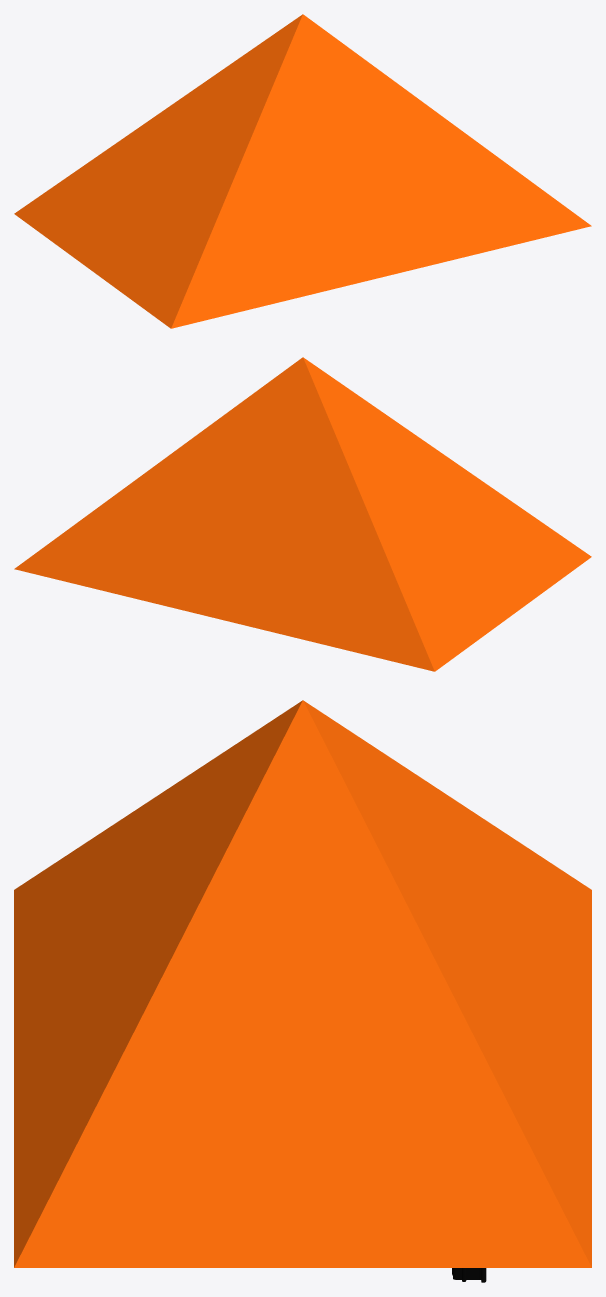
File: perf.fbx
3 views of the same model, one above another, from view 1: azimuth 30°, elevation 25°; view 2: azimuth 150°, elevation 25°; view 3: azimuth 270°, elevation 25° (orthographic). The views are drawn at different scales.
Visible parts, largest first — view 1: root; view 2: root; view 3: root.
Boxes of the visible parts, left/top/right/bottom form: root: left=14, top=14, right=591, bottom=328; root: left=14, top=357, right=591, bottom=671; root: left=14, top=700, right=591, bottom=1267.
Bounding box in the file's own units: 0.7179 × 0.3505 × 0.464.
Materials: 3 (1 with a texture image).
